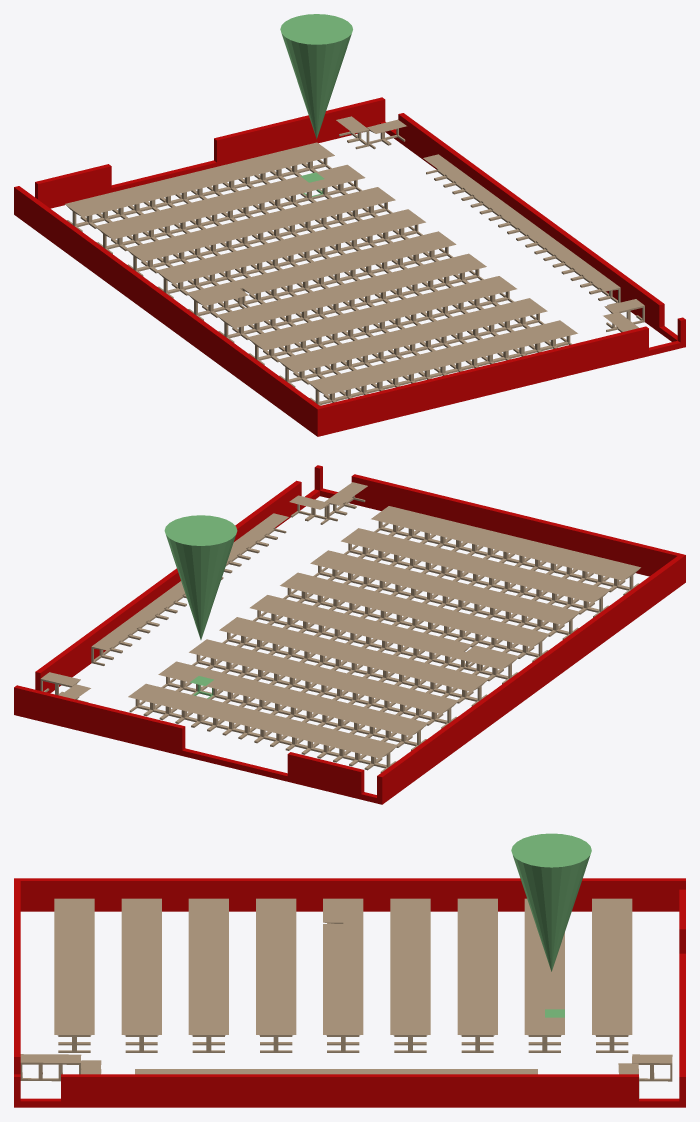
File: Boek 4.glb
3 views of the same model, one above another, from view 1: azimuth 30°, elevation 25°; view 2: azimuth 150°, elevation 25°; view 3: azimuth 270°, elevation 25° (orthographic). The views are drawn at different scales.
Parts seen in each view (by area): view 1: Mesh_Mesh_head_geo.001_lambert2SG.001; view 2: Mesh_Mesh_head_geo.001_lambert2SG.001; view 3: Mesh_Mesh_head_geo.001_lambert2SG.001.
Part boxes in pixels (bbox=[...]): Mesh_Mesh_head_geo.001_lambert2SG.001: bbox=[14, 14, 685, 436]; Mesh_Mesh_head_geo.001_lambert2SG.001: bbox=[14, 465, 685, 804]; Mesh_Mesh_head_geo.001_lambert2SG.001: bbox=[14, 833, 685, 1107].
Bounding box in the file's own units: 70 × 31 × 100.
